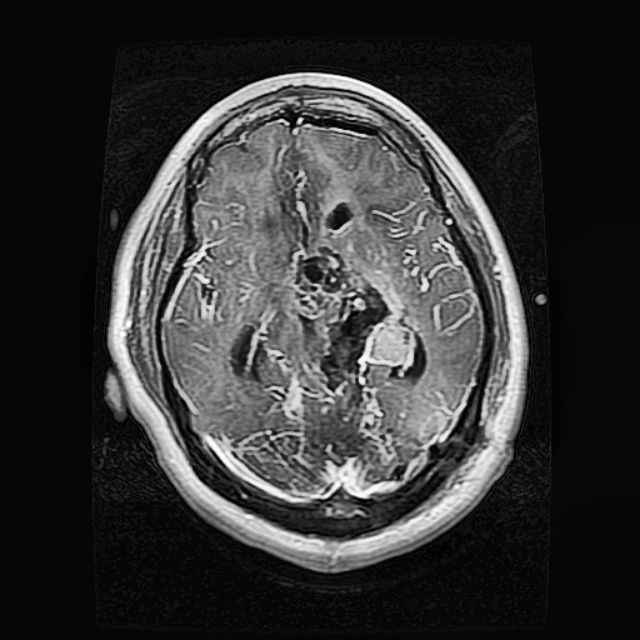Glioma: (287, 244, 428, 408)
